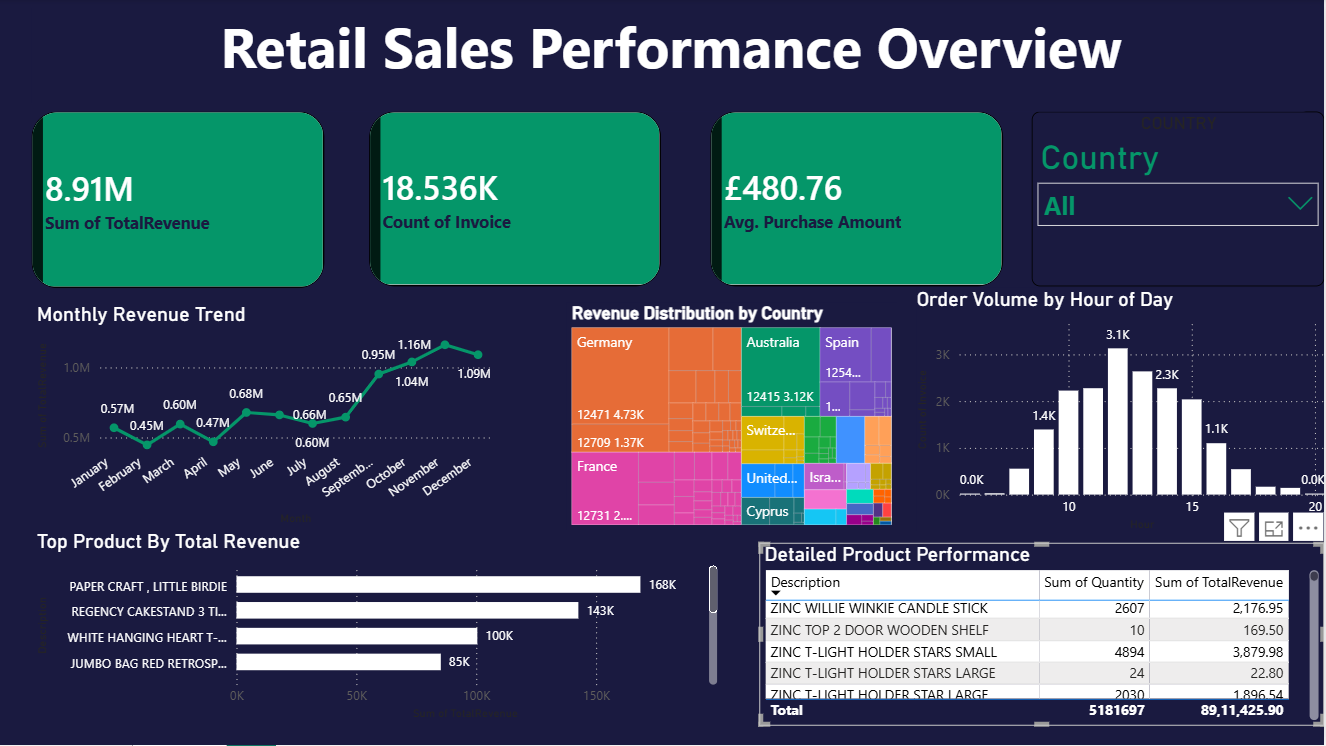

This screenshot's page, from the dashboard's own definition file:
{"tool":"powerbi","page":{"name":"Page 1","canvas":[1280,720],"ordinal":0},"visuals":[{"type":"cardVisual","fields":{"Data":["Sum(public fact_sales.TotalRevenue)"]},"box":[32.9,108.4,282.7,170.2],"z":0},{"type":"cardVisual","fields":{"Data":["public fact_sales.Avg. Purchase Amount"]},"box":[687.5,108.4,282.7,168.8],"z":1000},{"type":"cardVisual","fields":{"Data":["Count(public fact_sales.Invoice)"]},"box":[358.1,108.4,281.3,168.8],"z":2000},{"type":"lineChart","title":"Monthly Revenue Trend","fields":{"Category":["public fact_sales.InvoiceDate.Variation.Date Hierarchy.Month"],"Y":["Sum(public fact_sales.TotalRevenue)"]},"box":[32.9,293.7,448.7,219.6],"z":3000},{"type":"clusteredColumnChart","title":"Order Volume by Hour of Day","fields":{"Y":["Count(public fact_sales.Invoice)"],"Category":["public fact_sales.Hour"]},"box":[886.5,278.6,393.8,234.6],"z":4000},{"type":"slicer","title":"COUNTRY","fields":{"Values":["public fact_sales.Country"]},"box":[997.6,108.4,282.7,168.8],"z":5000},{"type":"clusteredBarChart","title":"Top Product By Total Revenue","fields":{"Category":["public fact_sales.Description"],"Y":["Sum(public fact_sales.TotalRevenue)"]},"box":[32.9,513.2,666.9,188],"z":6000},{"type":"tableEx","title":"Detailed Product Performance","fields":{"Values":["public fact_sales.Description","Sum(public fact_sales.Quantity)","Sum(public fact_sales.TotalRevenue)"]},"box":[734.1,513.2,546.1,188],"z":7000},{"type":"treemap","title":"Revenue Distribution by Country","fields":{"Values":["Sum(public fact_sales.TotalRevenue)"],"Details":["public fact_sales.Customer ID"],"Group":["public fact_sales.Country"]},"box":[548.9,293.7,318.4,219.6],"z":8000},{"type":"textbox","box":[32.9,0,1235,108.4],"z":9000}]}

Visuals, with their boxes in screenshot pixels (x1, y1, x2, y2), scaled from the page's 1280x720 canvas onto the 1326x746 screenshot:
cardVisual - Sum(public fact_sales.TotalRevenue): (left=34, top=112, right=327, bottom=289)
cardVisual - public fact_sales.Avg. Purchase Amount: (left=712, top=112, right=1005, bottom=287)
cardVisual - Count(public fact_sales.Invoice): (left=371, top=112, right=662, bottom=287)
"Monthly Revenue Trend" lineChart: (left=34, top=304, right=499, bottom=532)
"Order Volume by Hour of Day" clusteredColumnChart: (left=918, top=289, right=1325, bottom=532)
"COUNTRY" slicer: (left=1033, top=112, right=1325, bottom=287)
"Top Product By Total Revenue" clusteredBarChart: (left=34, top=532, right=725, bottom=727)
"Detailed Product Performance" tableEx: (left=760, top=532, right=1325, bottom=727)
"Revenue Distribution by Country" treemap: (left=569, top=304, right=898, bottom=532)
textbox: (left=34, top=0, right=1313, bottom=112)
